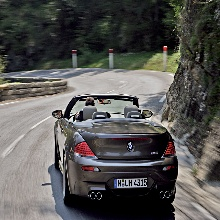no damage: (52, 92, 180, 209)
